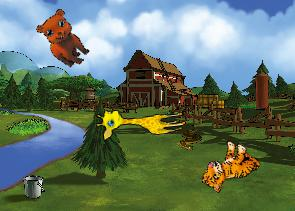bear: (30, 4, 100, 72)
giraffe: (94, 100, 187, 141)
tiger: (197, 134, 264, 203)
